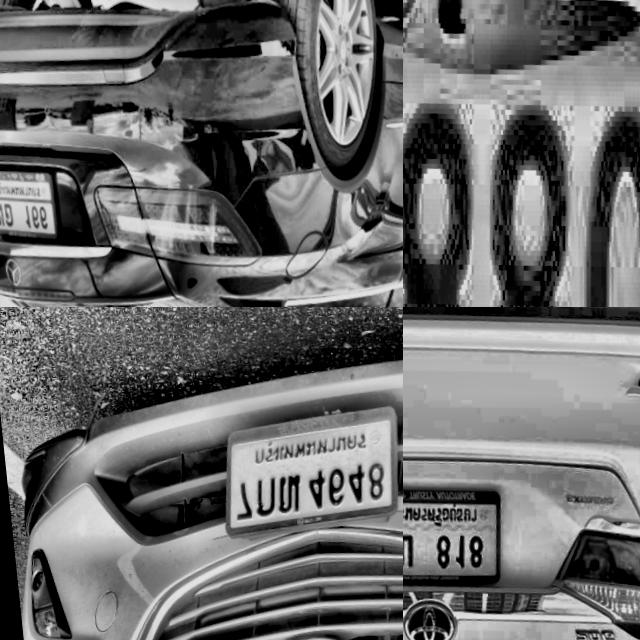license-plate: (403, 0, 640, 307), (200, 385, 403, 563), (403, 481, 501, 604), (0, 163, 53, 247)
